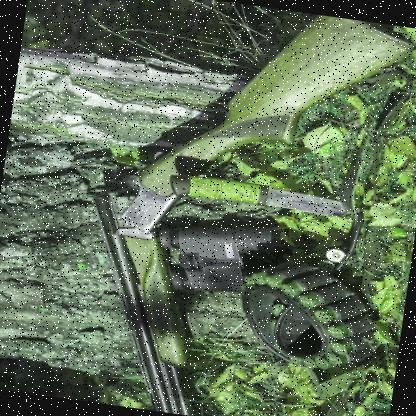rifle: (70, 0, 412, 416)
